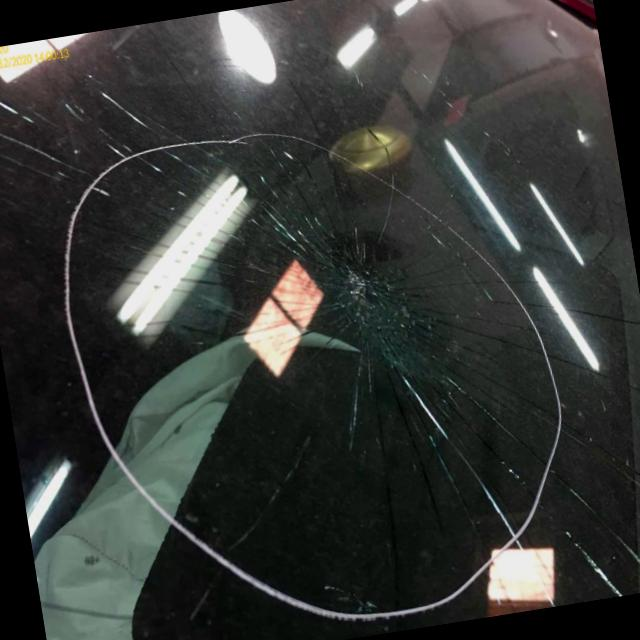Fissure: (0, 48, 237, 339), (282, 197, 440, 393), (221, 132, 324, 325)
